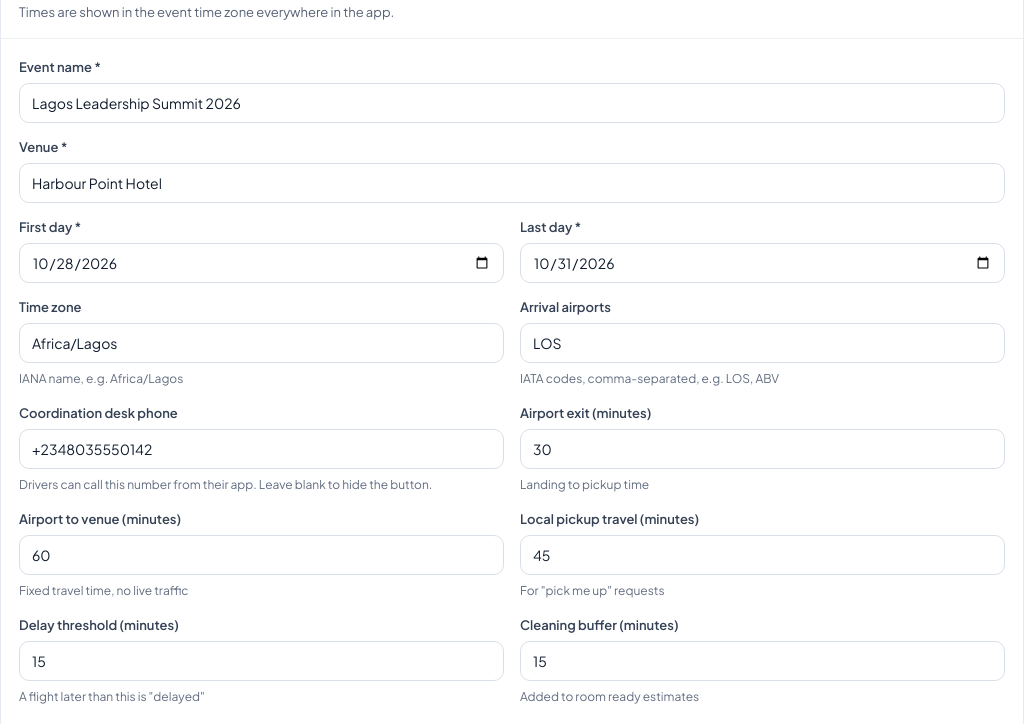
Test: EventForm › shows why the server refused the number
Replace the text in the field labelled "Coordination desk phone" with "reception" at (262, 449), box [19, 429, 504, 469]
(page scrolled)
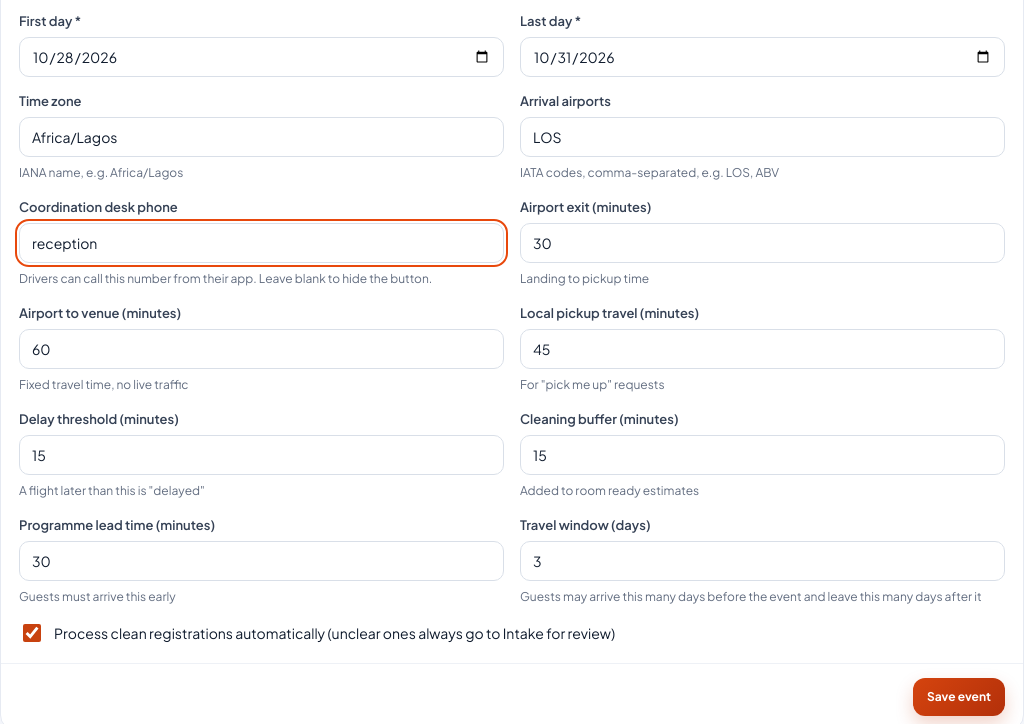
Click the button "Save event".
click(959, 697)  # box [913, 678, 1005, 716]
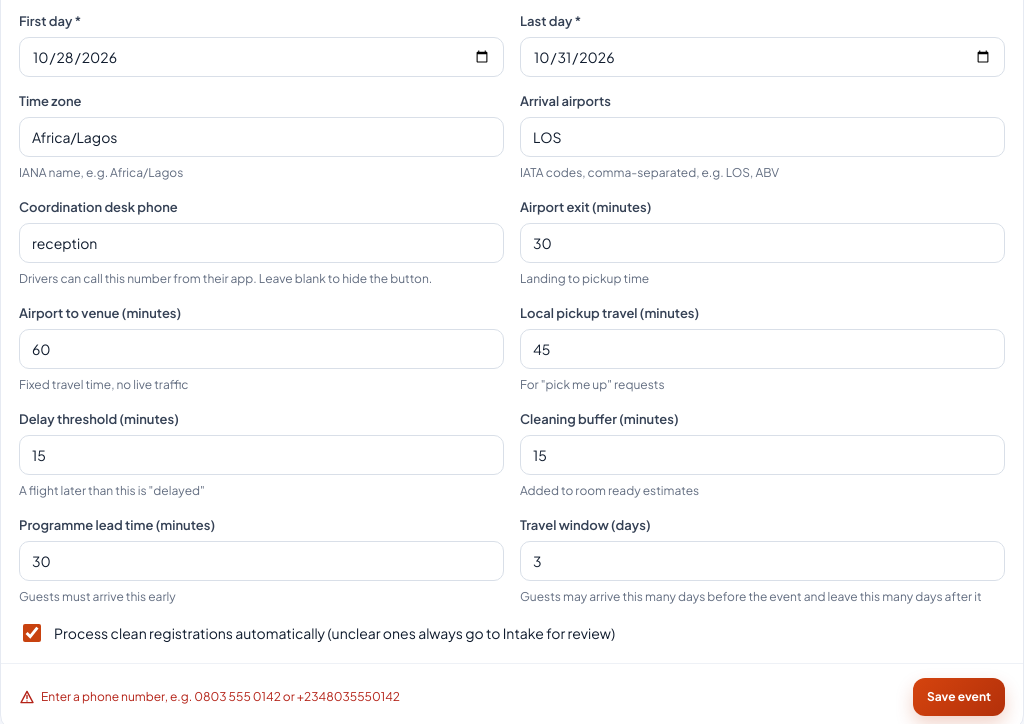
Expected: the message shows "Enter a phone number", [41, 689, 400, 704]
